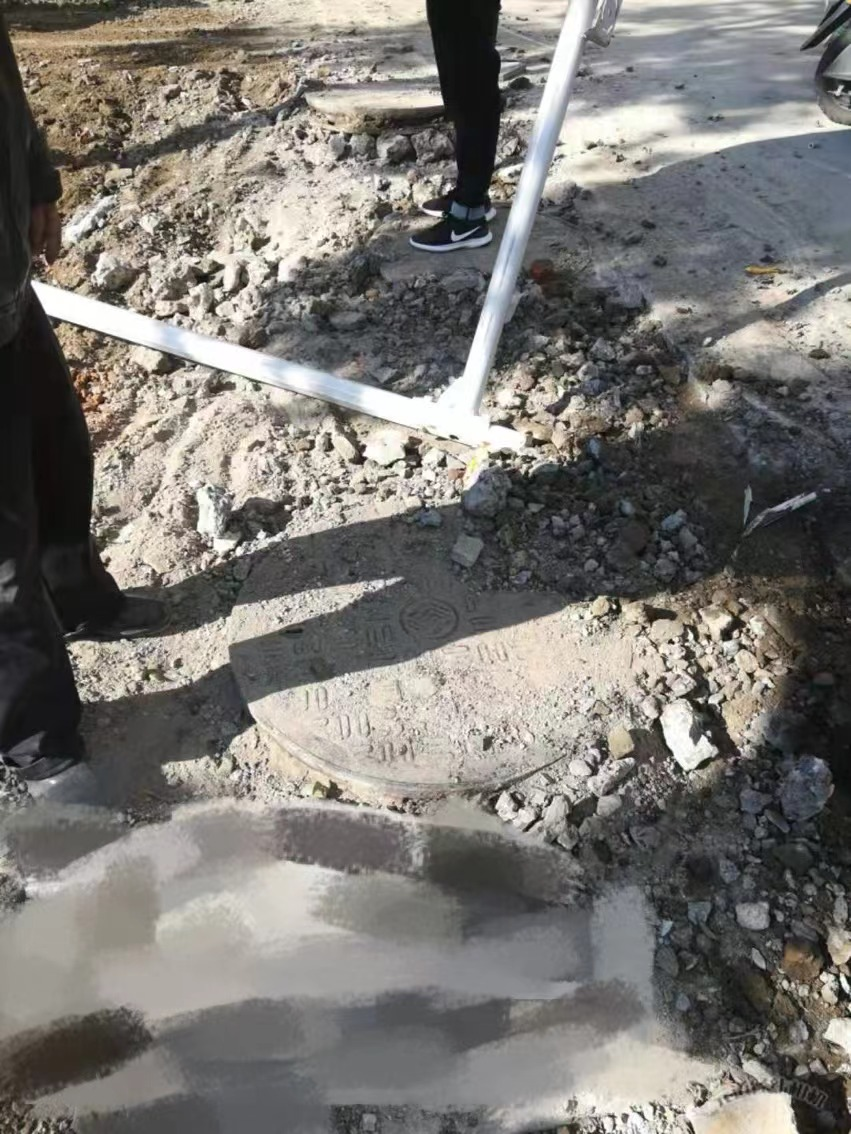circle: (174, 493, 711, 853)
